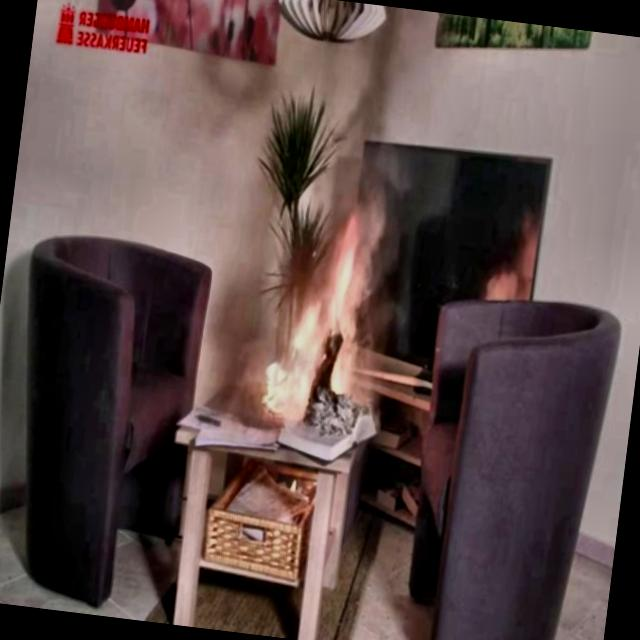fire: (254, 187, 394, 442)
